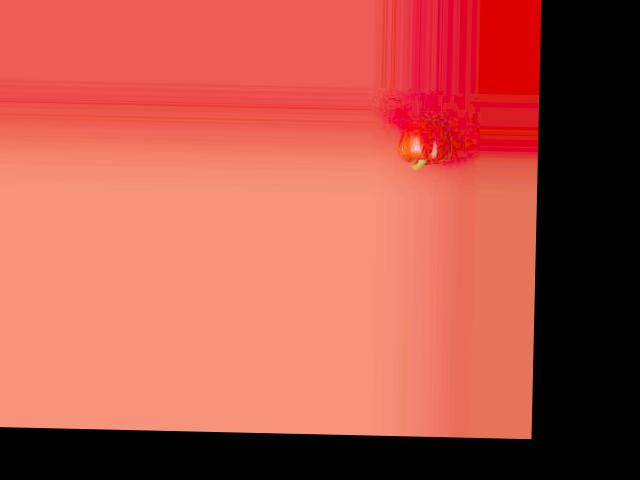bell_pepper: (400, 111, 453, 172)
